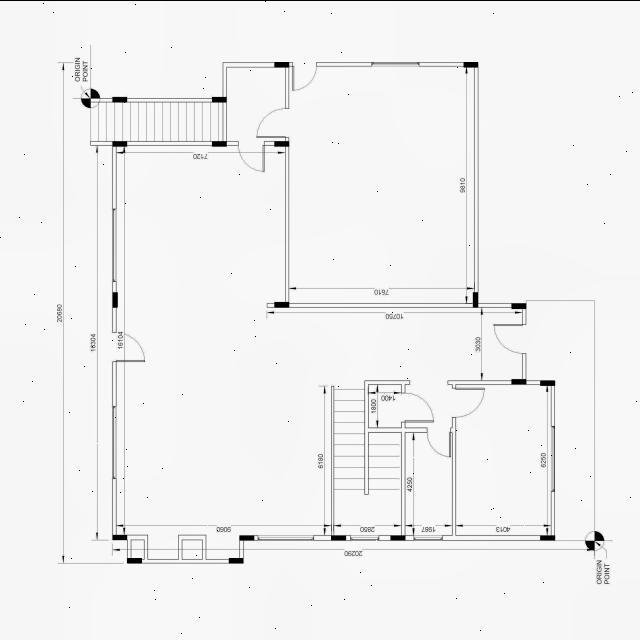Column: (112, 95, 128, 102), (212, 95, 227, 102), (274, 61, 290, 67), (274, 140, 290, 146), (274, 301, 290, 307), (472, 291, 478, 307), (390, 534, 406, 540), (228, 557, 244, 563), (112, 534, 128, 540), (112, 291, 118, 307), (112, 140, 128, 146), (212, 140, 227, 146), (540, 379, 555, 385), (331, 534, 346, 540), (127, 557, 142, 563), (540, 534, 555, 540), (464, 61, 478, 67), (512, 302, 526, 308), (512, 378, 526, 384), (240, 534, 254, 540)
Door: (452, 383, 485, 417), (112, 331, 146, 361), (256, 107, 289, 137), (401, 392, 434, 422), (494, 323, 526, 353), (238, 140, 264, 172), (427, 426, 452, 456), (292, 62, 316, 90)
Staircase: (334, 380, 401, 534), (90, 102, 238, 140)
Window: (112, 208, 117, 282), (258, 534, 314, 540), (112, 404, 116, 478), (551, 425, 555, 491), (372, 61, 419, 66), (413, 534, 442, 540), (350, 534, 379, 540)
